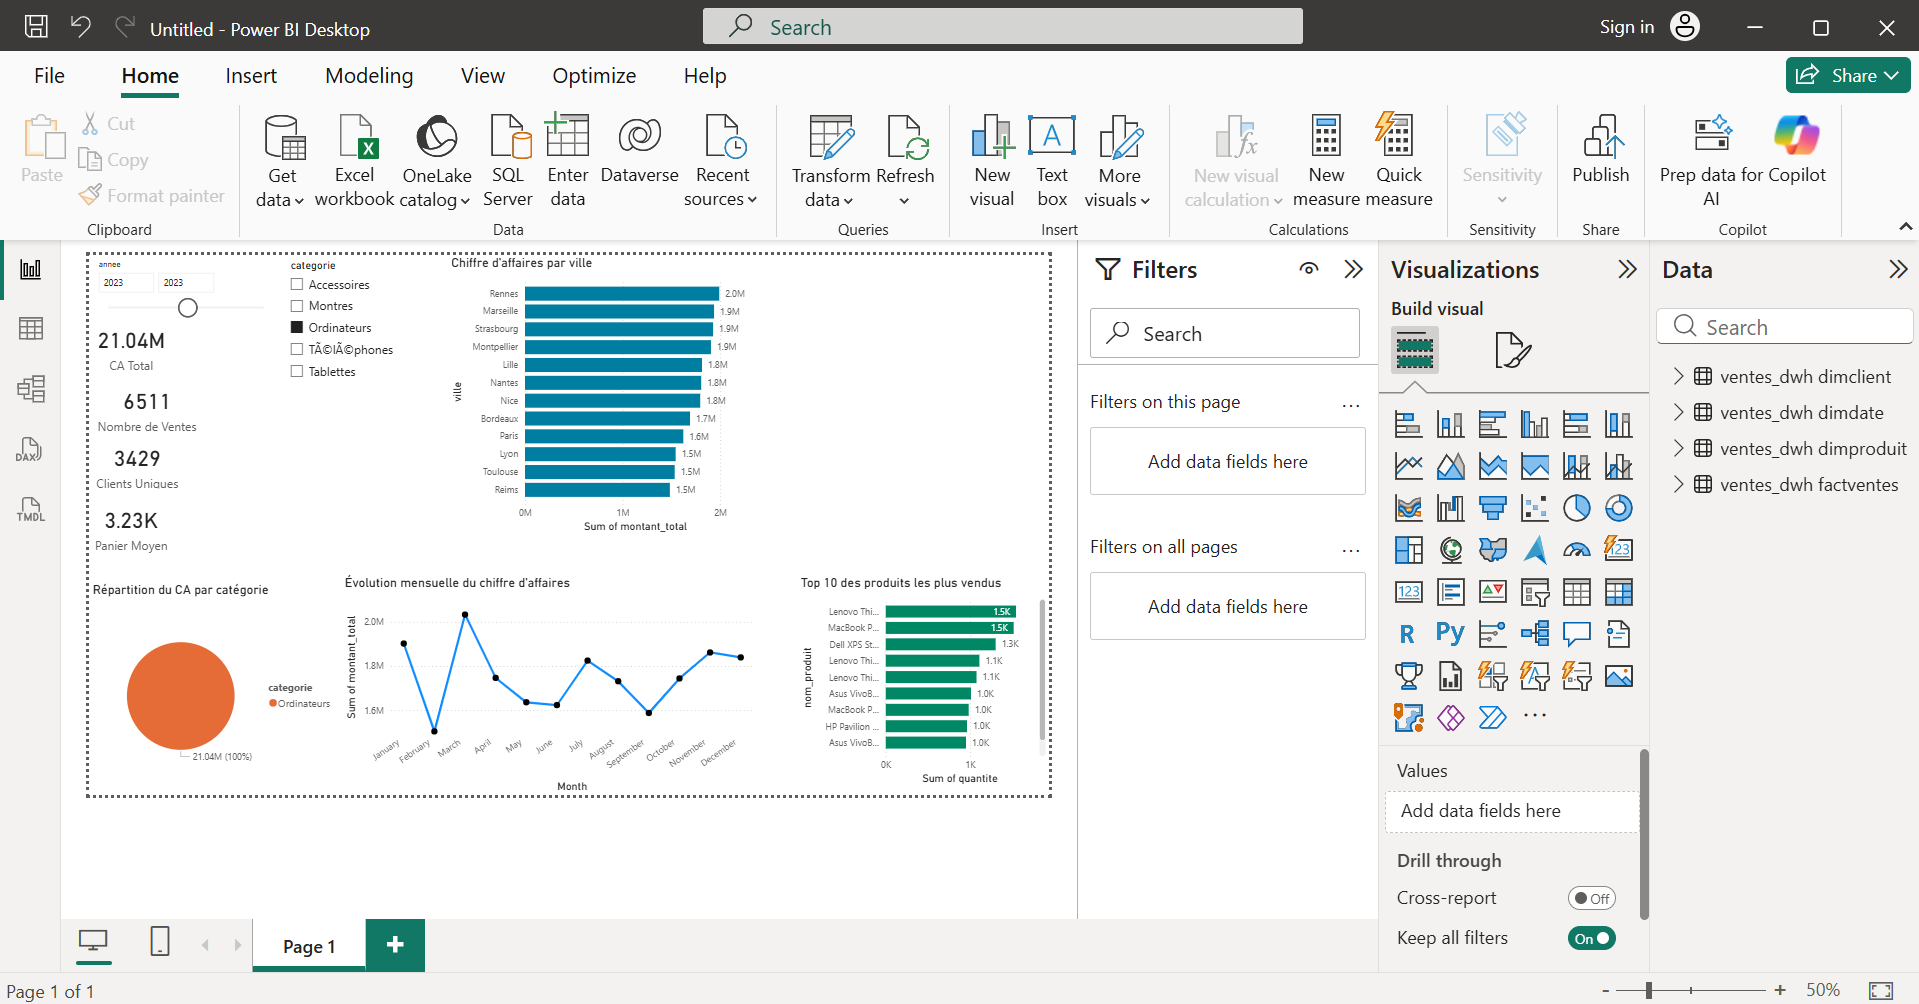

The page's visual inventory and layout, read from the dashboard file:
{"tool":"powerbi","page":{"name":"Page 1","canvas":[1280,720],"ordinal":0},"visuals":[{"type":"barChart","title":"Chiffre d''affaires par ville","fields":{"Category":["ventes_dwh dimclient.ville"],"Y":["Sum(ventes_dwh factventes.montant_total)"]},"box":[316,66,458,342],"z":0},{"type":"pieChart","title":"Répartition du CA par catégorie","fields":{"Category":["ventes_dwh dimproduit.categorie"],"Y":["Sum(ventes_dwh factventes.montant_total)"]},"box":[326,432,336,288],"z":1000},{"type":"lineChart","title":"Évolution mensuelle du chiffre d''affaires","fields":{"Y":["Sum(ventes_dwh factventes.montant_total)"],"Category":["ventes_dwh dimdate.date_complete.Variation.Date Hierarchy.Month"]},"box":[724,432,530,288],"z":2000},{"type":"clusteredBarChart","title":"Top 10 des produits les plus vendus","fields":{"Category":["ventes_dwh dimproduit.nom_produit"],"Y":["Sum(ventes_dwh factventes.quantite)"]},"box":[800,66,432,342],"z":3000},{"type":"slicer","fields":{"Values":["ventes_dwh dimdate.annee"]},"box":[0,164,256,96],"z":4000},{"type":"slicer","fields":{"Values":["ventes_dwh dimproduit.categorie"]},"box":[0,260,210,172],"z":5000},{"type":"card","fields":{"Values":["ventes_dwh factventes.CA Total"]},"box":[0,0,112,72],"z":6000},{"type":"card","fields":{"Values":["ventes_dwh factventes.Panier Moyen"]},"box":[128,66,112,80],"z":7000},{"type":"card","fields":{"Values":["ventes_dwh factventes.Nombre de Ventes"]},"box":[112,0,154,72],"z":8000},{"type":"card","fields":{"Values":["ventes_dwh factventes.Clients Uniques"]},"box":[0,72,128,74],"z":9000},{"type":"textbox","box":[336,0,652,48],"z":10000}]}

Visuals, with their boxes on the page's 1280x720 design canvas (x1, y1, x2, y2). These are canvas units, not pixel positions in the 1919x1004 screenshot, which may show the page scaled, cropped or inside an application window:
"Chiffre d''affaires par ville" barChart: x1=316 y1=66 x2=774 y2=408
"Répartition du CA par catégorie" pieChart: x1=326 y1=432 x2=662 y2=720
"Évolution mensuelle du chiffre d''affaires" lineChart: x1=724 y1=432 x2=1254 y2=720
"Top 10 des produits les plus vendus" clusteredBarChart: x1=800 y1=66 x2=1232 y2=408
slicer - ventes_dwh dimdate.annee: x1=0 y1=164 x2=256 y2=260
slicer - ventes_dwh dimproduit.categorie: x1=0 y1=260 x2=210 y2=432
card - ventes_dwh factventes.CA Total: x1=0 y1=0 x2=112 y2=72
card - ventes_dwh factventes.Panier Moyen: x1=128 y1=66 x2=240 y2=146
card - ventes_dwh factventes.Nombre de Ventes: x1=112 y1=0 x2=266 y2=72
card - ventes_dwh factventes.Clients Uniques: x1=0 y1=72 x2=128 y2=146
textbox: x1=336 y1=0 x2=988 y2=48
